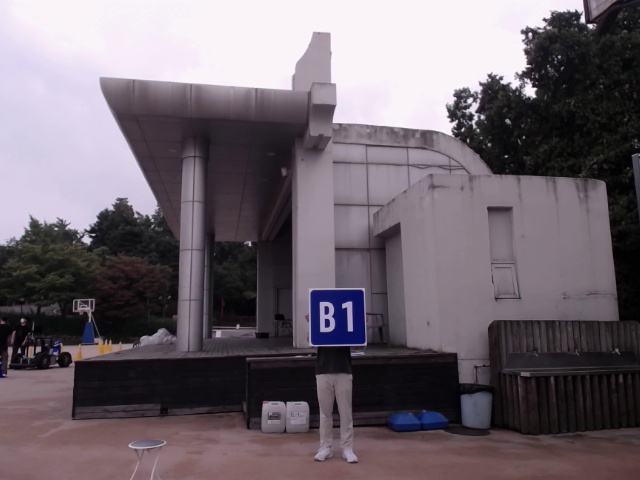delivery_b1: (309, 288, 367, 346)
